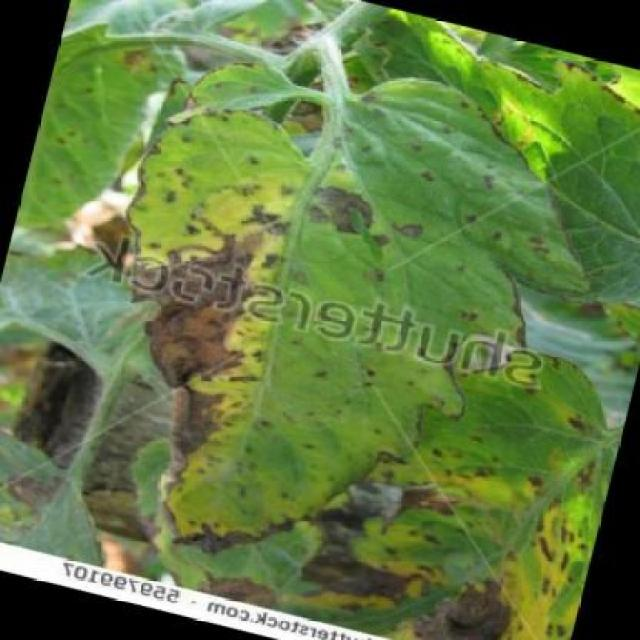Tomato leaf bacterial spot: (51, 0, 580, 622), (316, 343, 626, 640)
